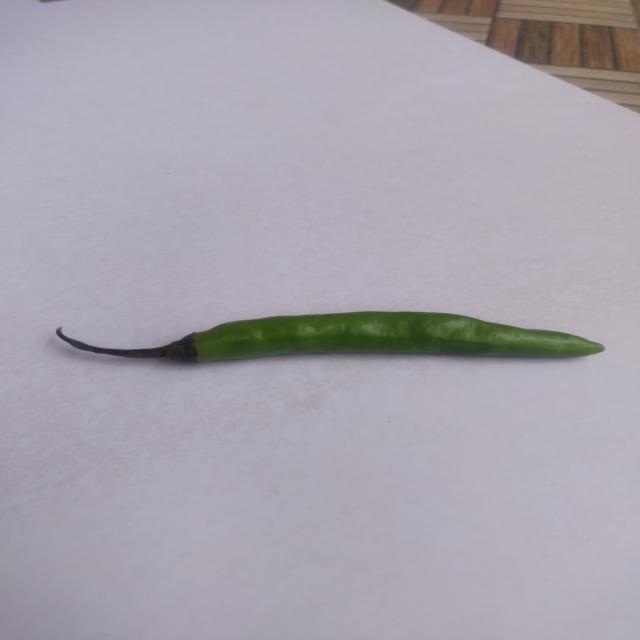Green Chilly: (28, 307, 625, 389)
